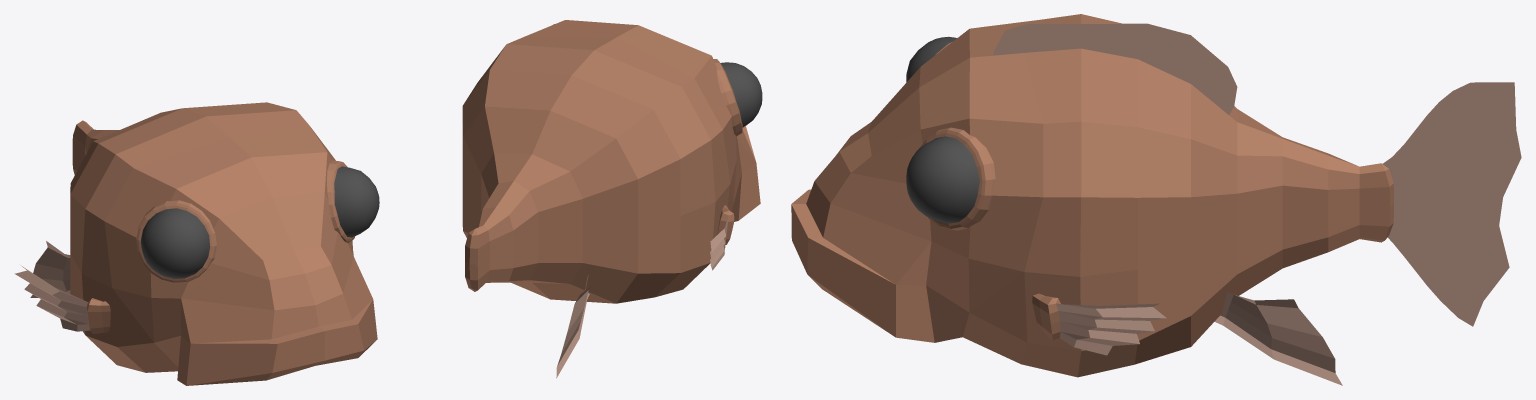
File: coralgrouper.glb
3 renders of one model, left to right at view 1: azimuth 30°, elevation 25°; view 2: azimuth 150°, elevation 25°; view 3: azimuth 270°, elevation 25°, orthographic. The views are drawn at different scales.
Visible parts, largest first — view 1: cutefish__CoralGrouper.glb; view 2: cutefish__CoralGrouper.glb; view 3: cutefish__CoralGrouper.glb.
Boxes of the visible parts, left/top/right/bottom form: cutefish__CoralGrouper.glb: left=14, top=102, right=379, bottom=385; cutefish__CoralGrouper.glb: left=462, top=20, right=762, bottom=378; cutefish__CoralGrouper.glb: left=791, top=14, right=1521, bottom=385.
Size of the model in its own units: 3.18 by 2.57 by 5.28.
